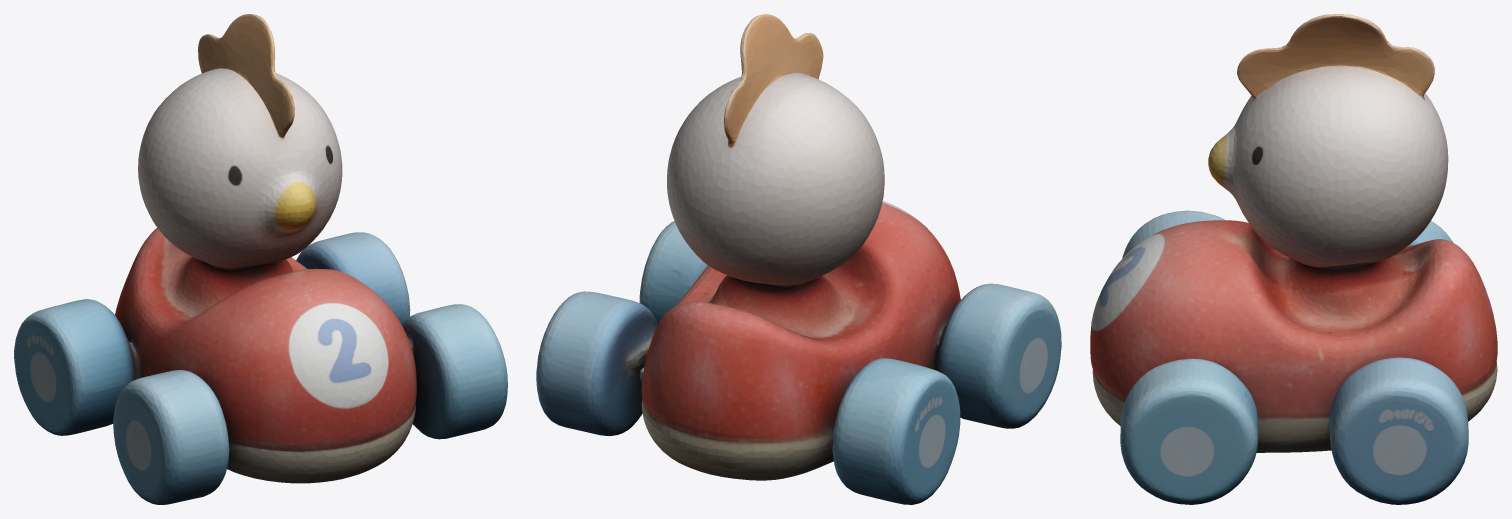
3 views of the same model, side by side, from view 1: azimuth 30°, elevation 25°; view 2: azimuth 150°, elevation 25°; view 3: azimuth 270°, elevation 25° (orthographic). The views are drawn at different scales.
Parts seen in each view (by area): view 1: world; view 2: world; view 3: world.
Boxes of the visible parts, box(x1,y1,x2,y2) form: world: box(14, 14, 507, 504); world: box(536, 14, 1061, 504); world: box(1090, 14, 1497, 504).
Size of the model in its own units: 0.92 by 0.9998 by 0.8846.
Materials: 1 (1 with a texture image).
